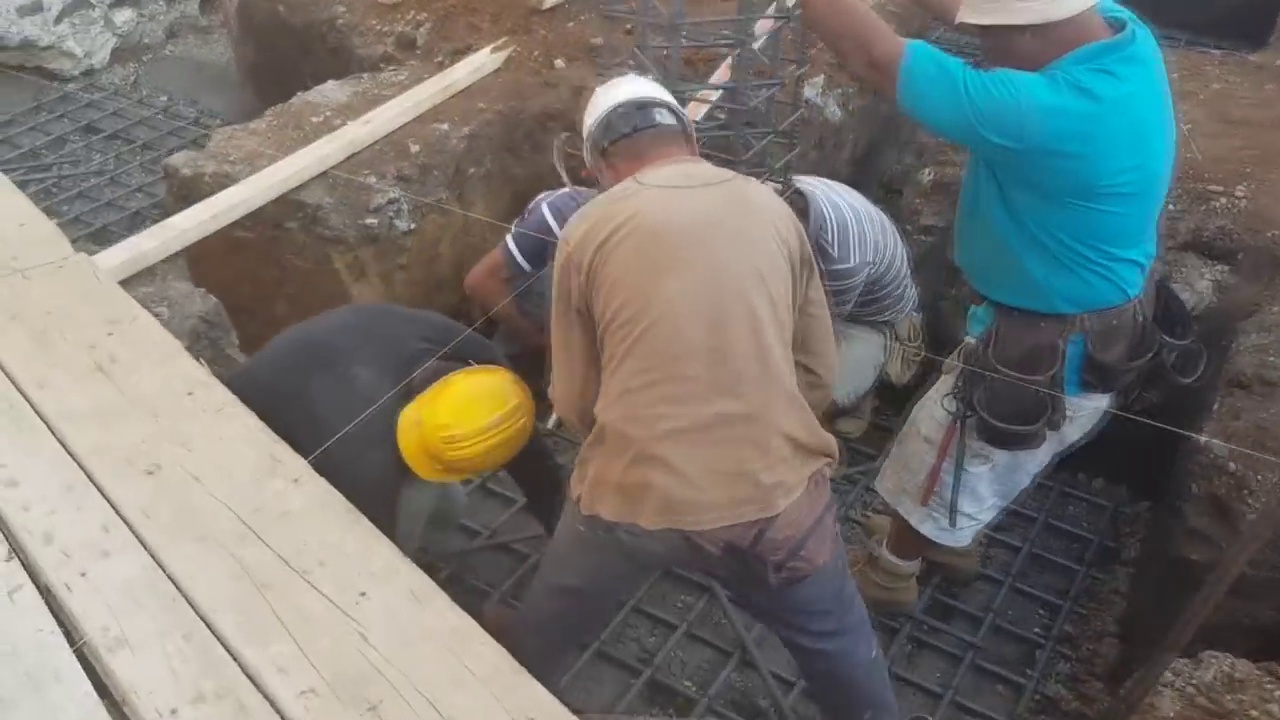helmet: (403, 364, 528, 480), (579, 70, 703, 170)
helmet-off: (955, 4, 1115, 72)
helmet-on: (397, 358, 533, 502), (573, 69, 710, 191)
person: (512, 68, 902, 718), (790, 0, 1165, 612), (226, 297, 574, 540), (774, 170, 927, 444), (466, 179, 610, 400)
